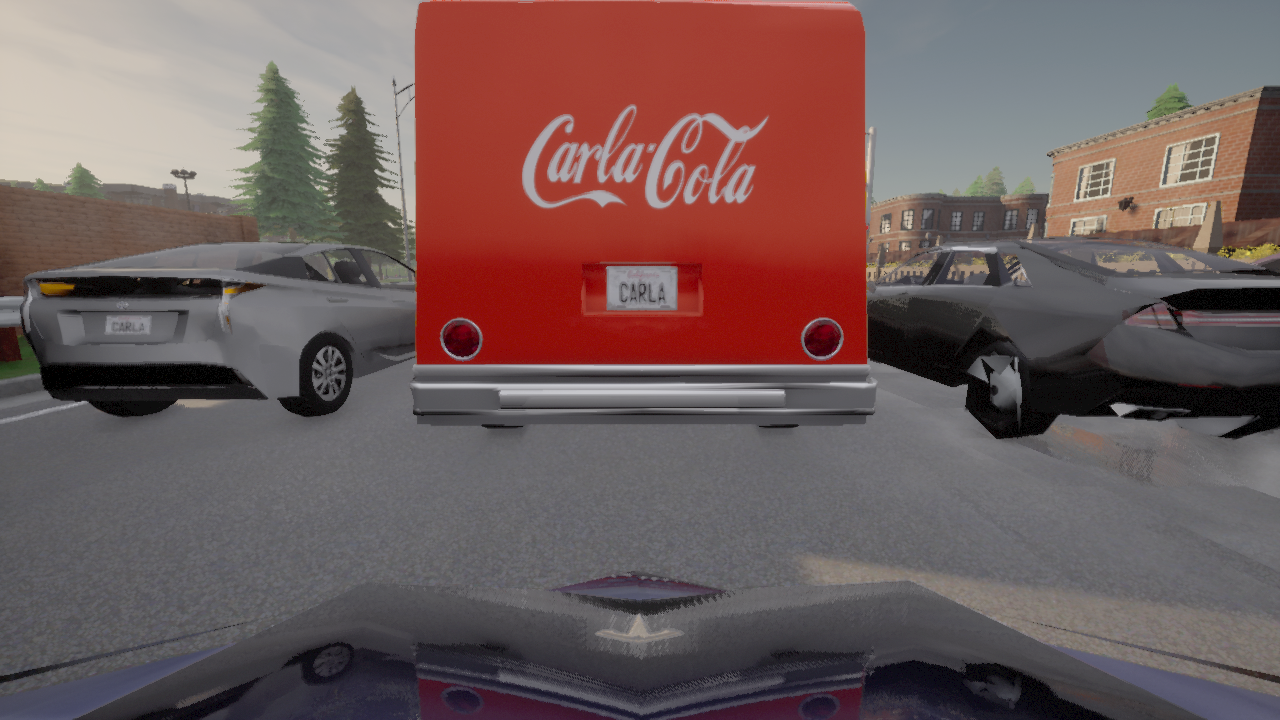cyclist: (409, 0, 877, 427), (0, 569, 1279, 719), (867, 236, 1279, 439), (19, 241, 415, 416), (1250, 249, 1279, 268)
